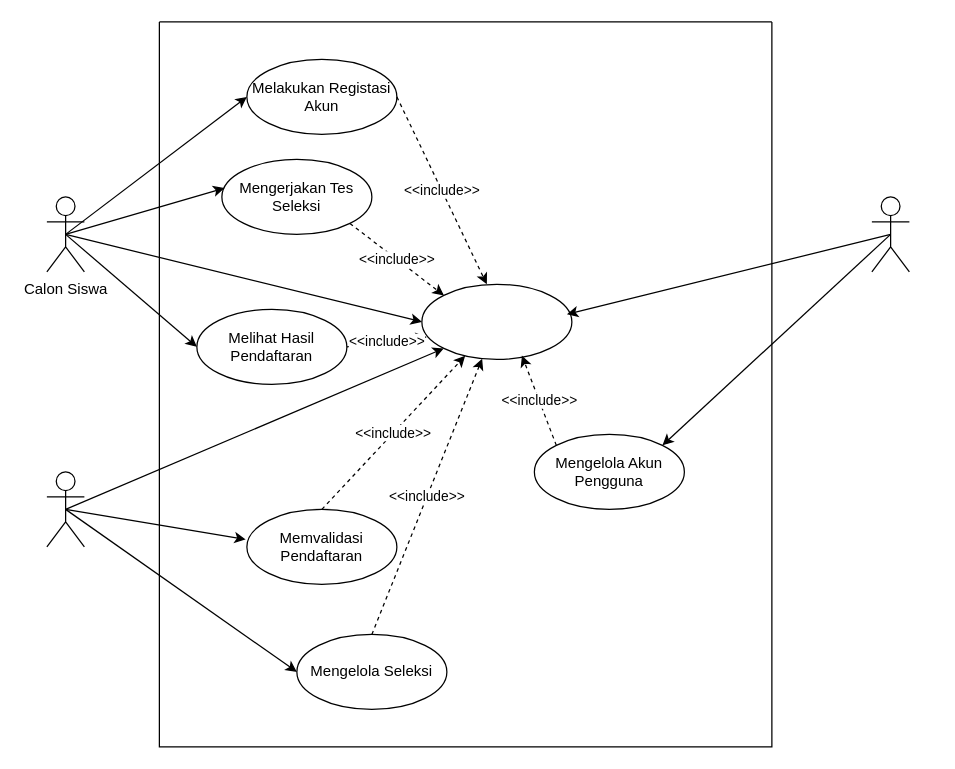
Some shapes in this 955 by 769 pixel diagram are drawn without their labels. Here are the shapes that lost their labels. From the top down, the centre of each, then its label:
[890,234]: Super Admin
[496,321]: Melakukan Login
[65,509]: Admin PPDB
